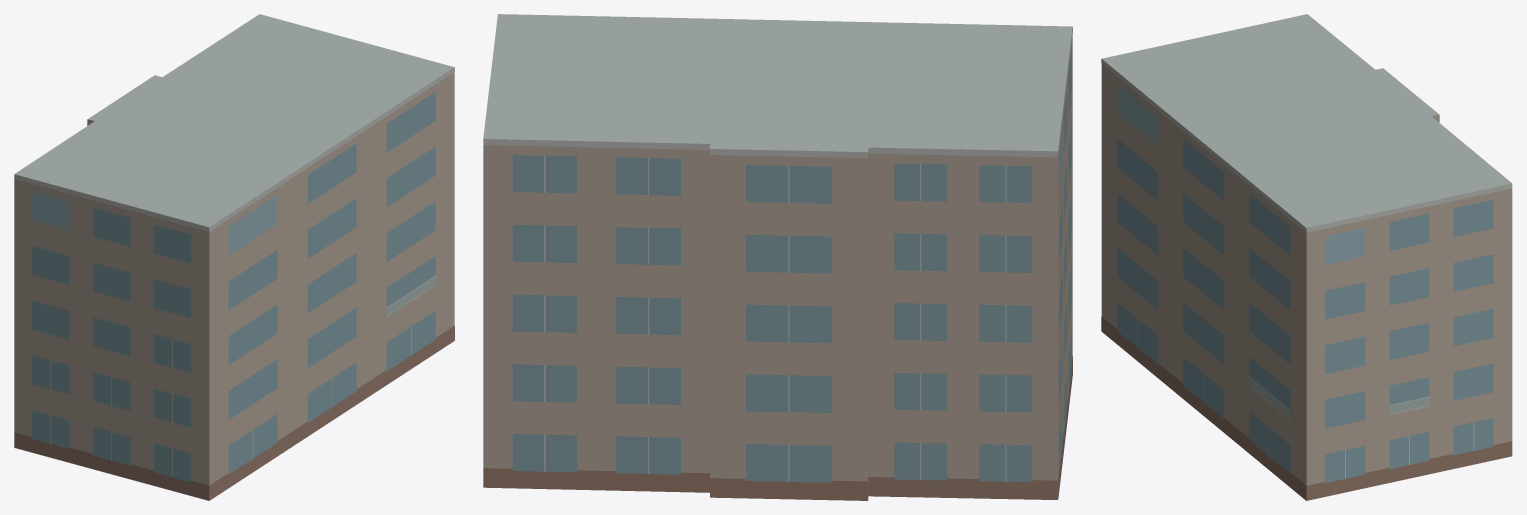
The model's file is survey-upis-32778798.glb.
The picture shows the model from 3 angles, left to right: view 1: azimuth 30°, elevation 25°; view 2: azimuth 150°, elevation 25°; view 3: azimuth 270°, elevation 25°; orthographic projection. The views are drawn at different scales.
Visible parts, largest first — view 1: survey-upis-32778798.tmp; view 2: survey-upis-32778798.tmp; view 3: survey-upis-32778798.tmp.
Part boxes in pixels (left/top/right/bottom): survey-upis-32778798.tmp: left=14, top=14, right=454, bottom=500; survey-upis-32778798.tmp: left=483, top=14, right=1072, bottom=500; survey-upis-32778798.tmp: left=1101, top=14, right=1512, bottom=500.
Bounding box in the file's own units: 23.58 × 14 × 19.12.
